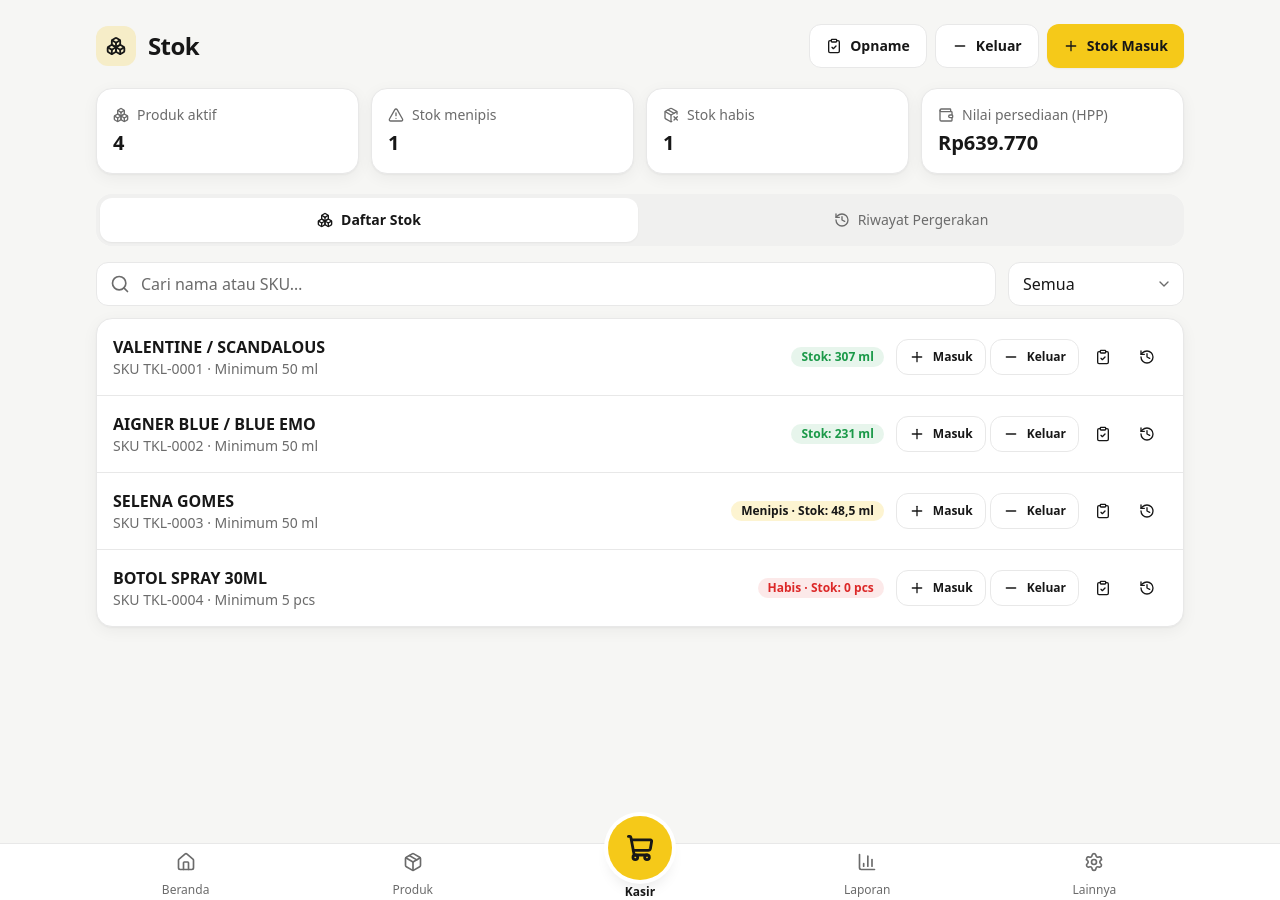
Halaman Stok › stok keluar wajib alasan dan menampilkan penolakan stok tidak cukup dari server
expect the tab "Daftar Stok" is shown: met, box [100, 198, 638, 242]
Click the button with aria-label "Stok keluar SELENA GOMES". click: (1034, 511)
box: [990, 493, 1079, 529]
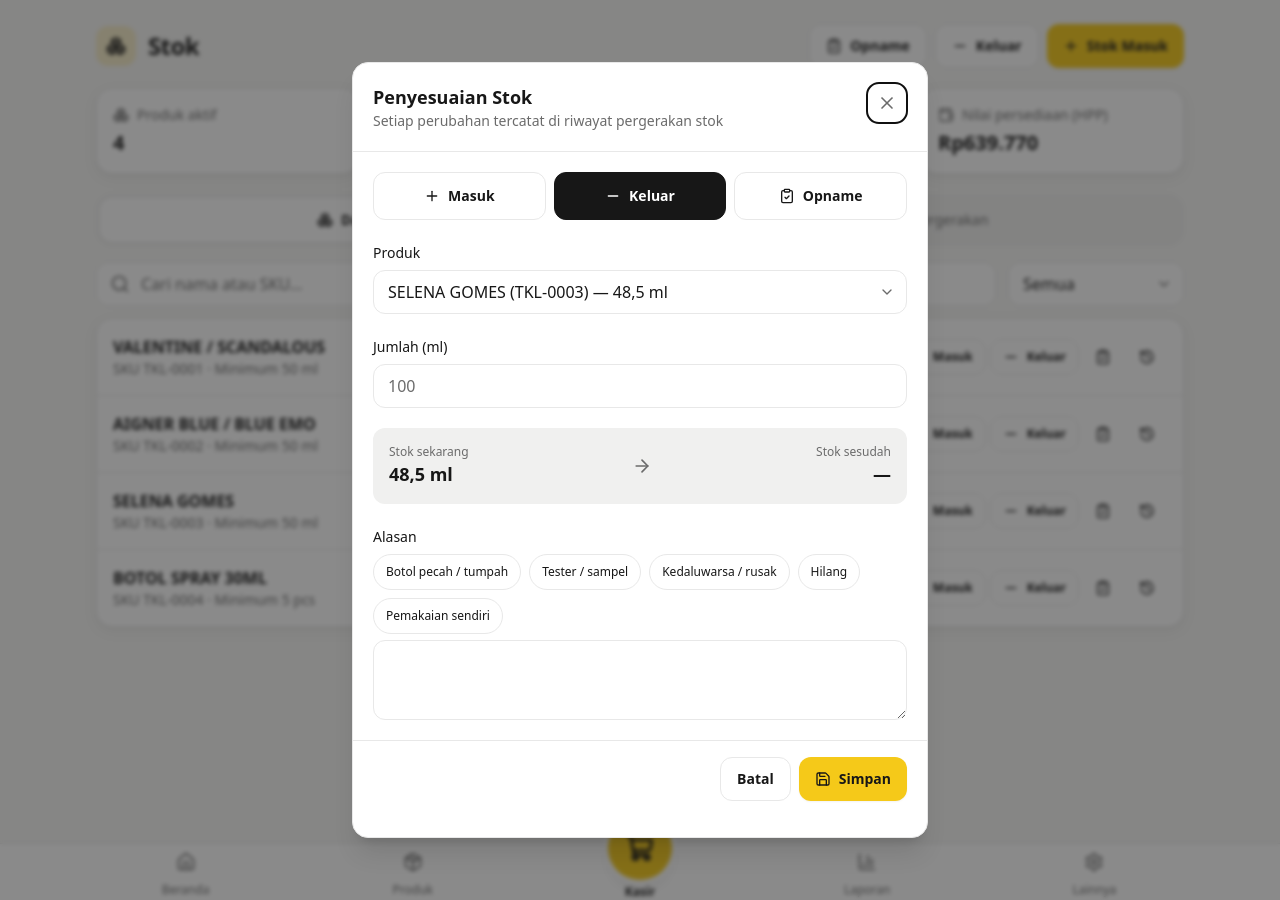
Type "50" into the field labelled "Jumlah (ml)". click: (640, 386)
box: [373, 364, 907, 408]
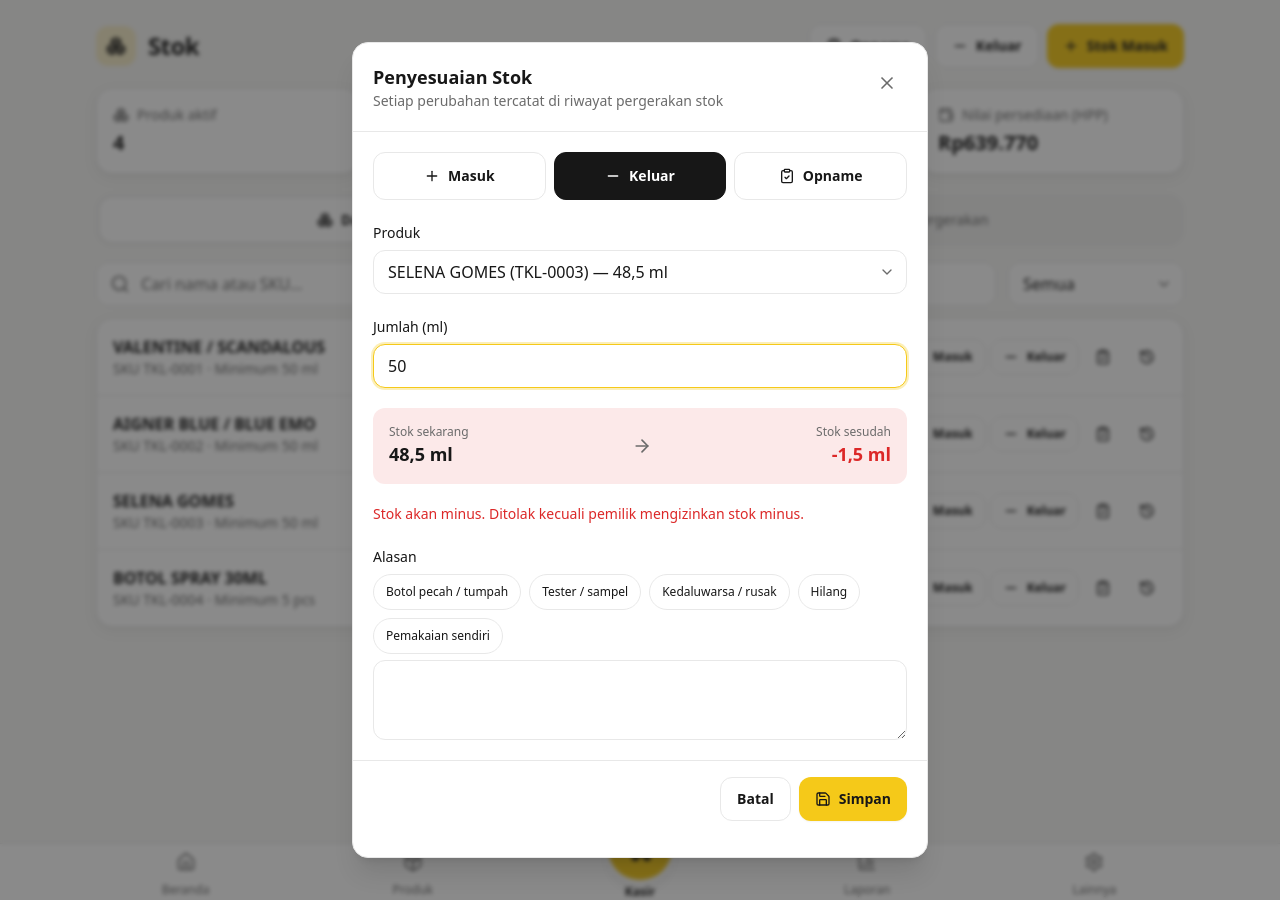
expect the text with test id "stock-after" reads "-1,5 ml": met, box [832, 442, 891, 466]
expect the text "Stok akan minus" is shown: met, box [373, 504, 804, 523]
Click the button "Simpan". click: (853, 799)
box: [799, 777, 907, 821]
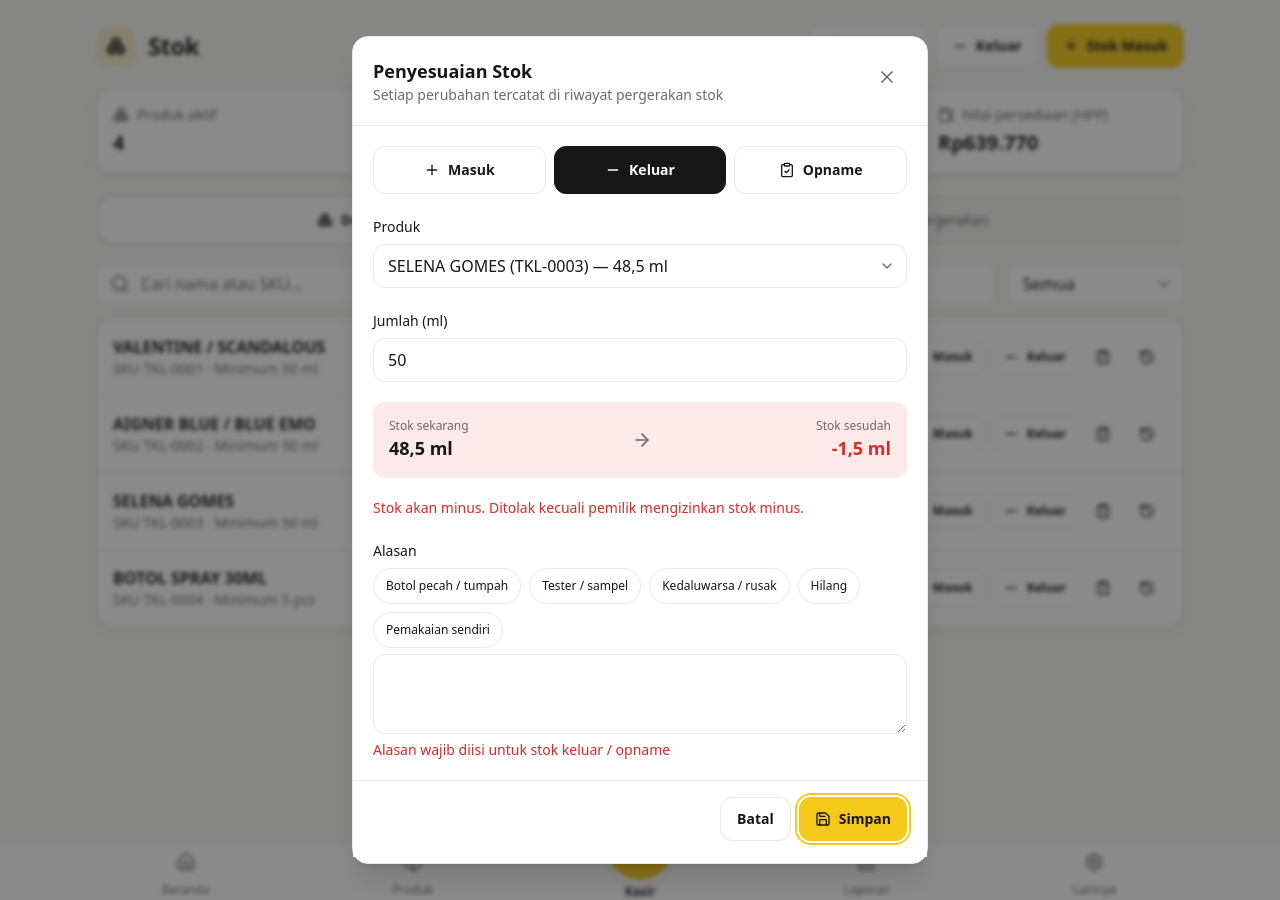
expect the text "Alasan wajib diisi untuk stok keluar / opname" is shown: met, box [373, 740, 670, 759]
Type "Tumpah" into the text box labelled "Alasan". click: (640, 694)
box: [373, 654, 907, 734]
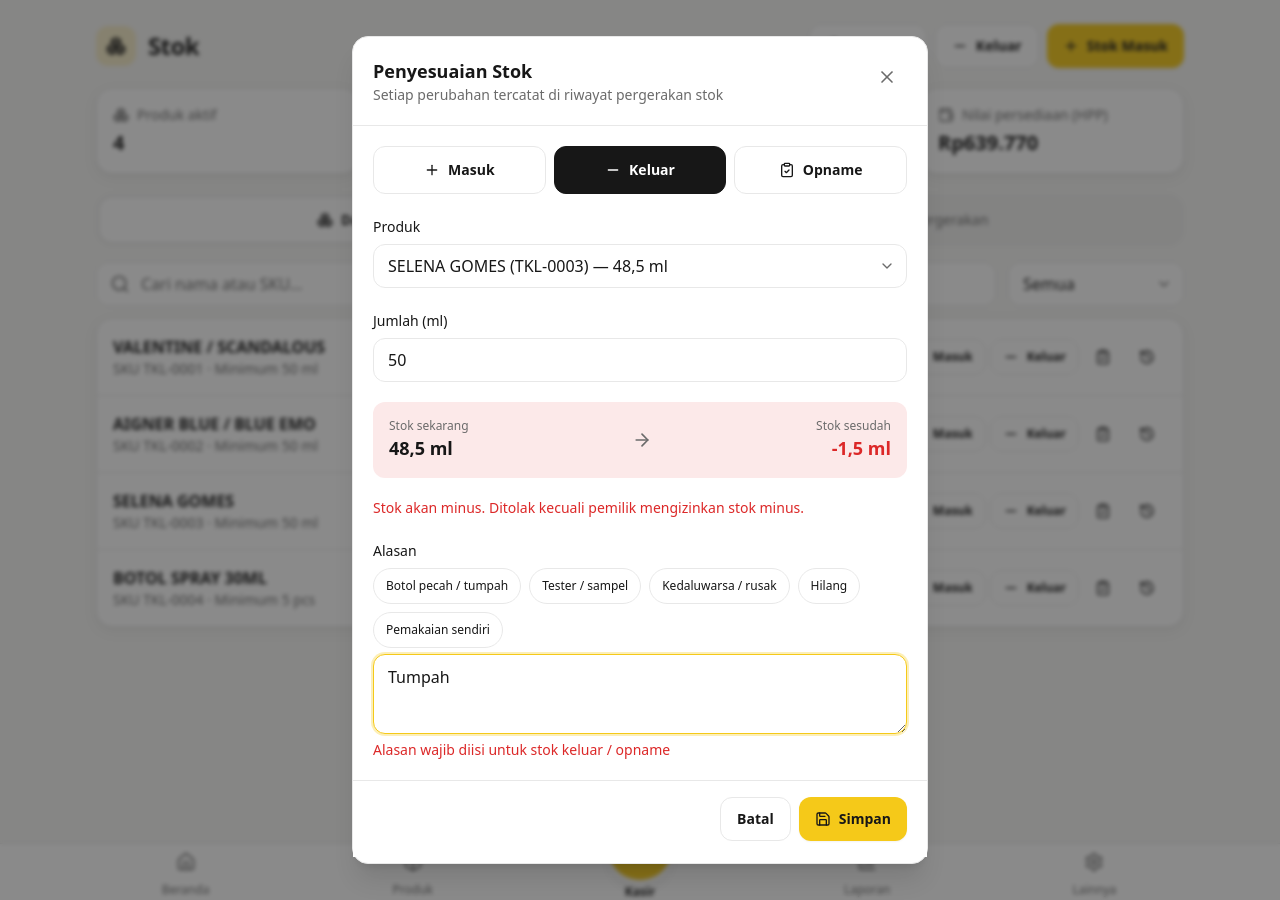
Click the button "Simpan". click: (853, 819)
box: [799, 797, 907, 841]
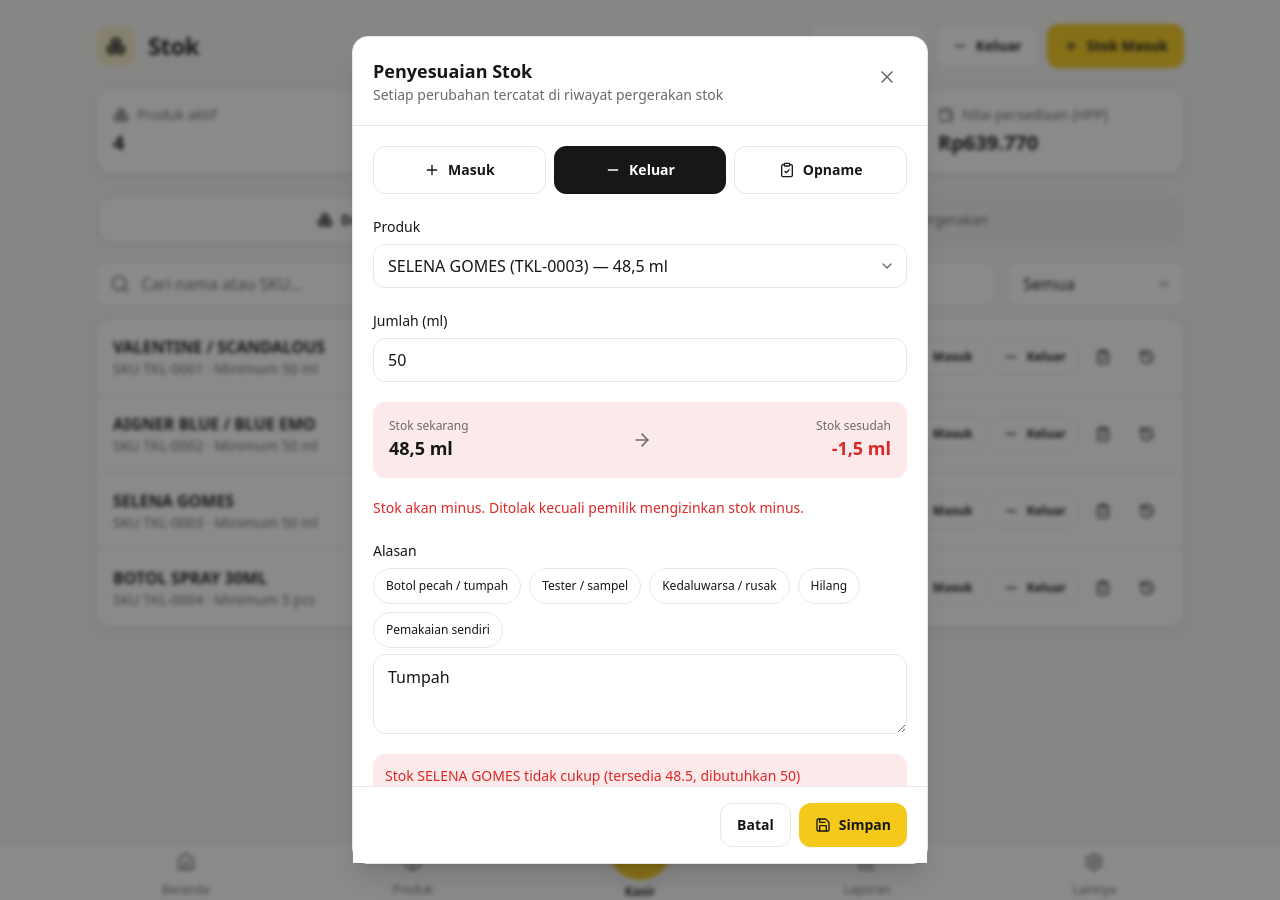
expect the message shows "tidak cukup": met, box [385, 766, 800, 785]
